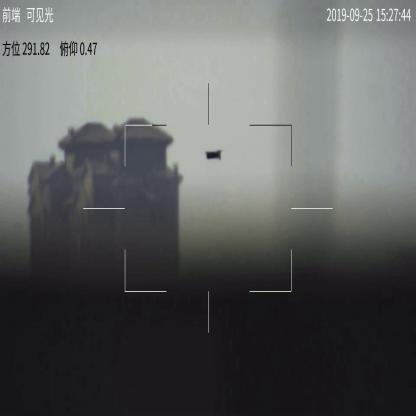uav: (204, 149, 223, 161)
